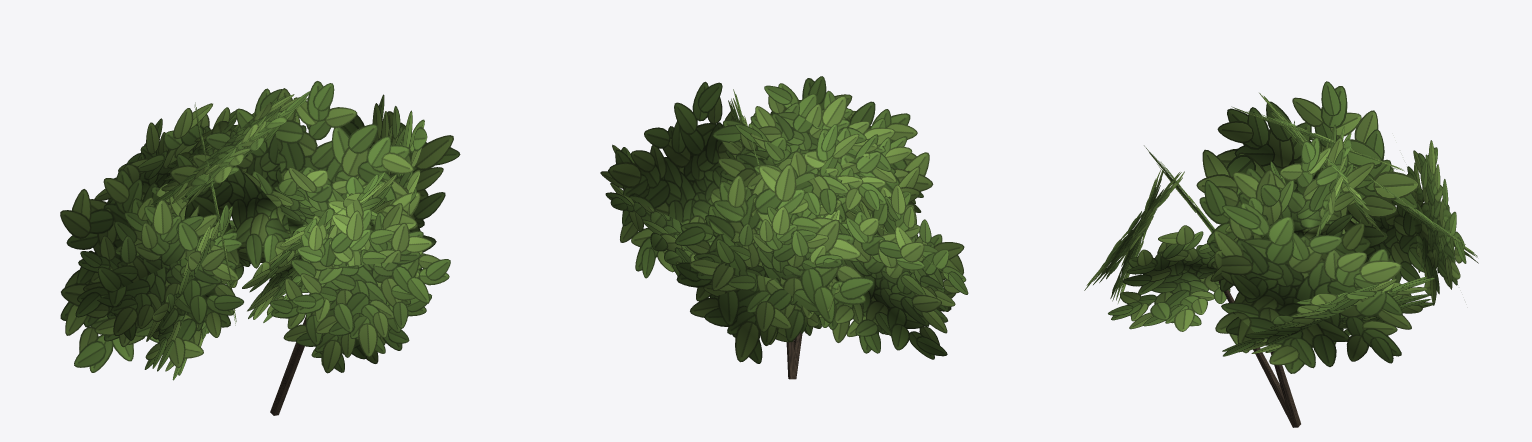
The model's file is cespuglio_2_leggero.glb.
3 renders of one model, left to right at view 1: azimuth 30°, elevation 25°; view 2: azimuth 150°, elevation 25°; view 3: azimuth 270°, elevation 25°, orthographic. The views are drawn at different scales.
Visible parts, largest first — view 1: cespuglio_2_leggero; view 2: cespuglio_2_leggero; view 3: cespuglio_2_leggero.
Part boxes in pixels (box(x1,y1,x2,y2)): cespuglio_2_leggero: box(60, 81, 460, 415); cespuglio_2_leggero: box(600, 76, 968, 379); cespuglio_2_leggero: box(1084, 81, 1478, 427).
Size of the model in its own units: 5.64 by 4.31 by 4.79.
Materials: 2 (2 with a texture image).
